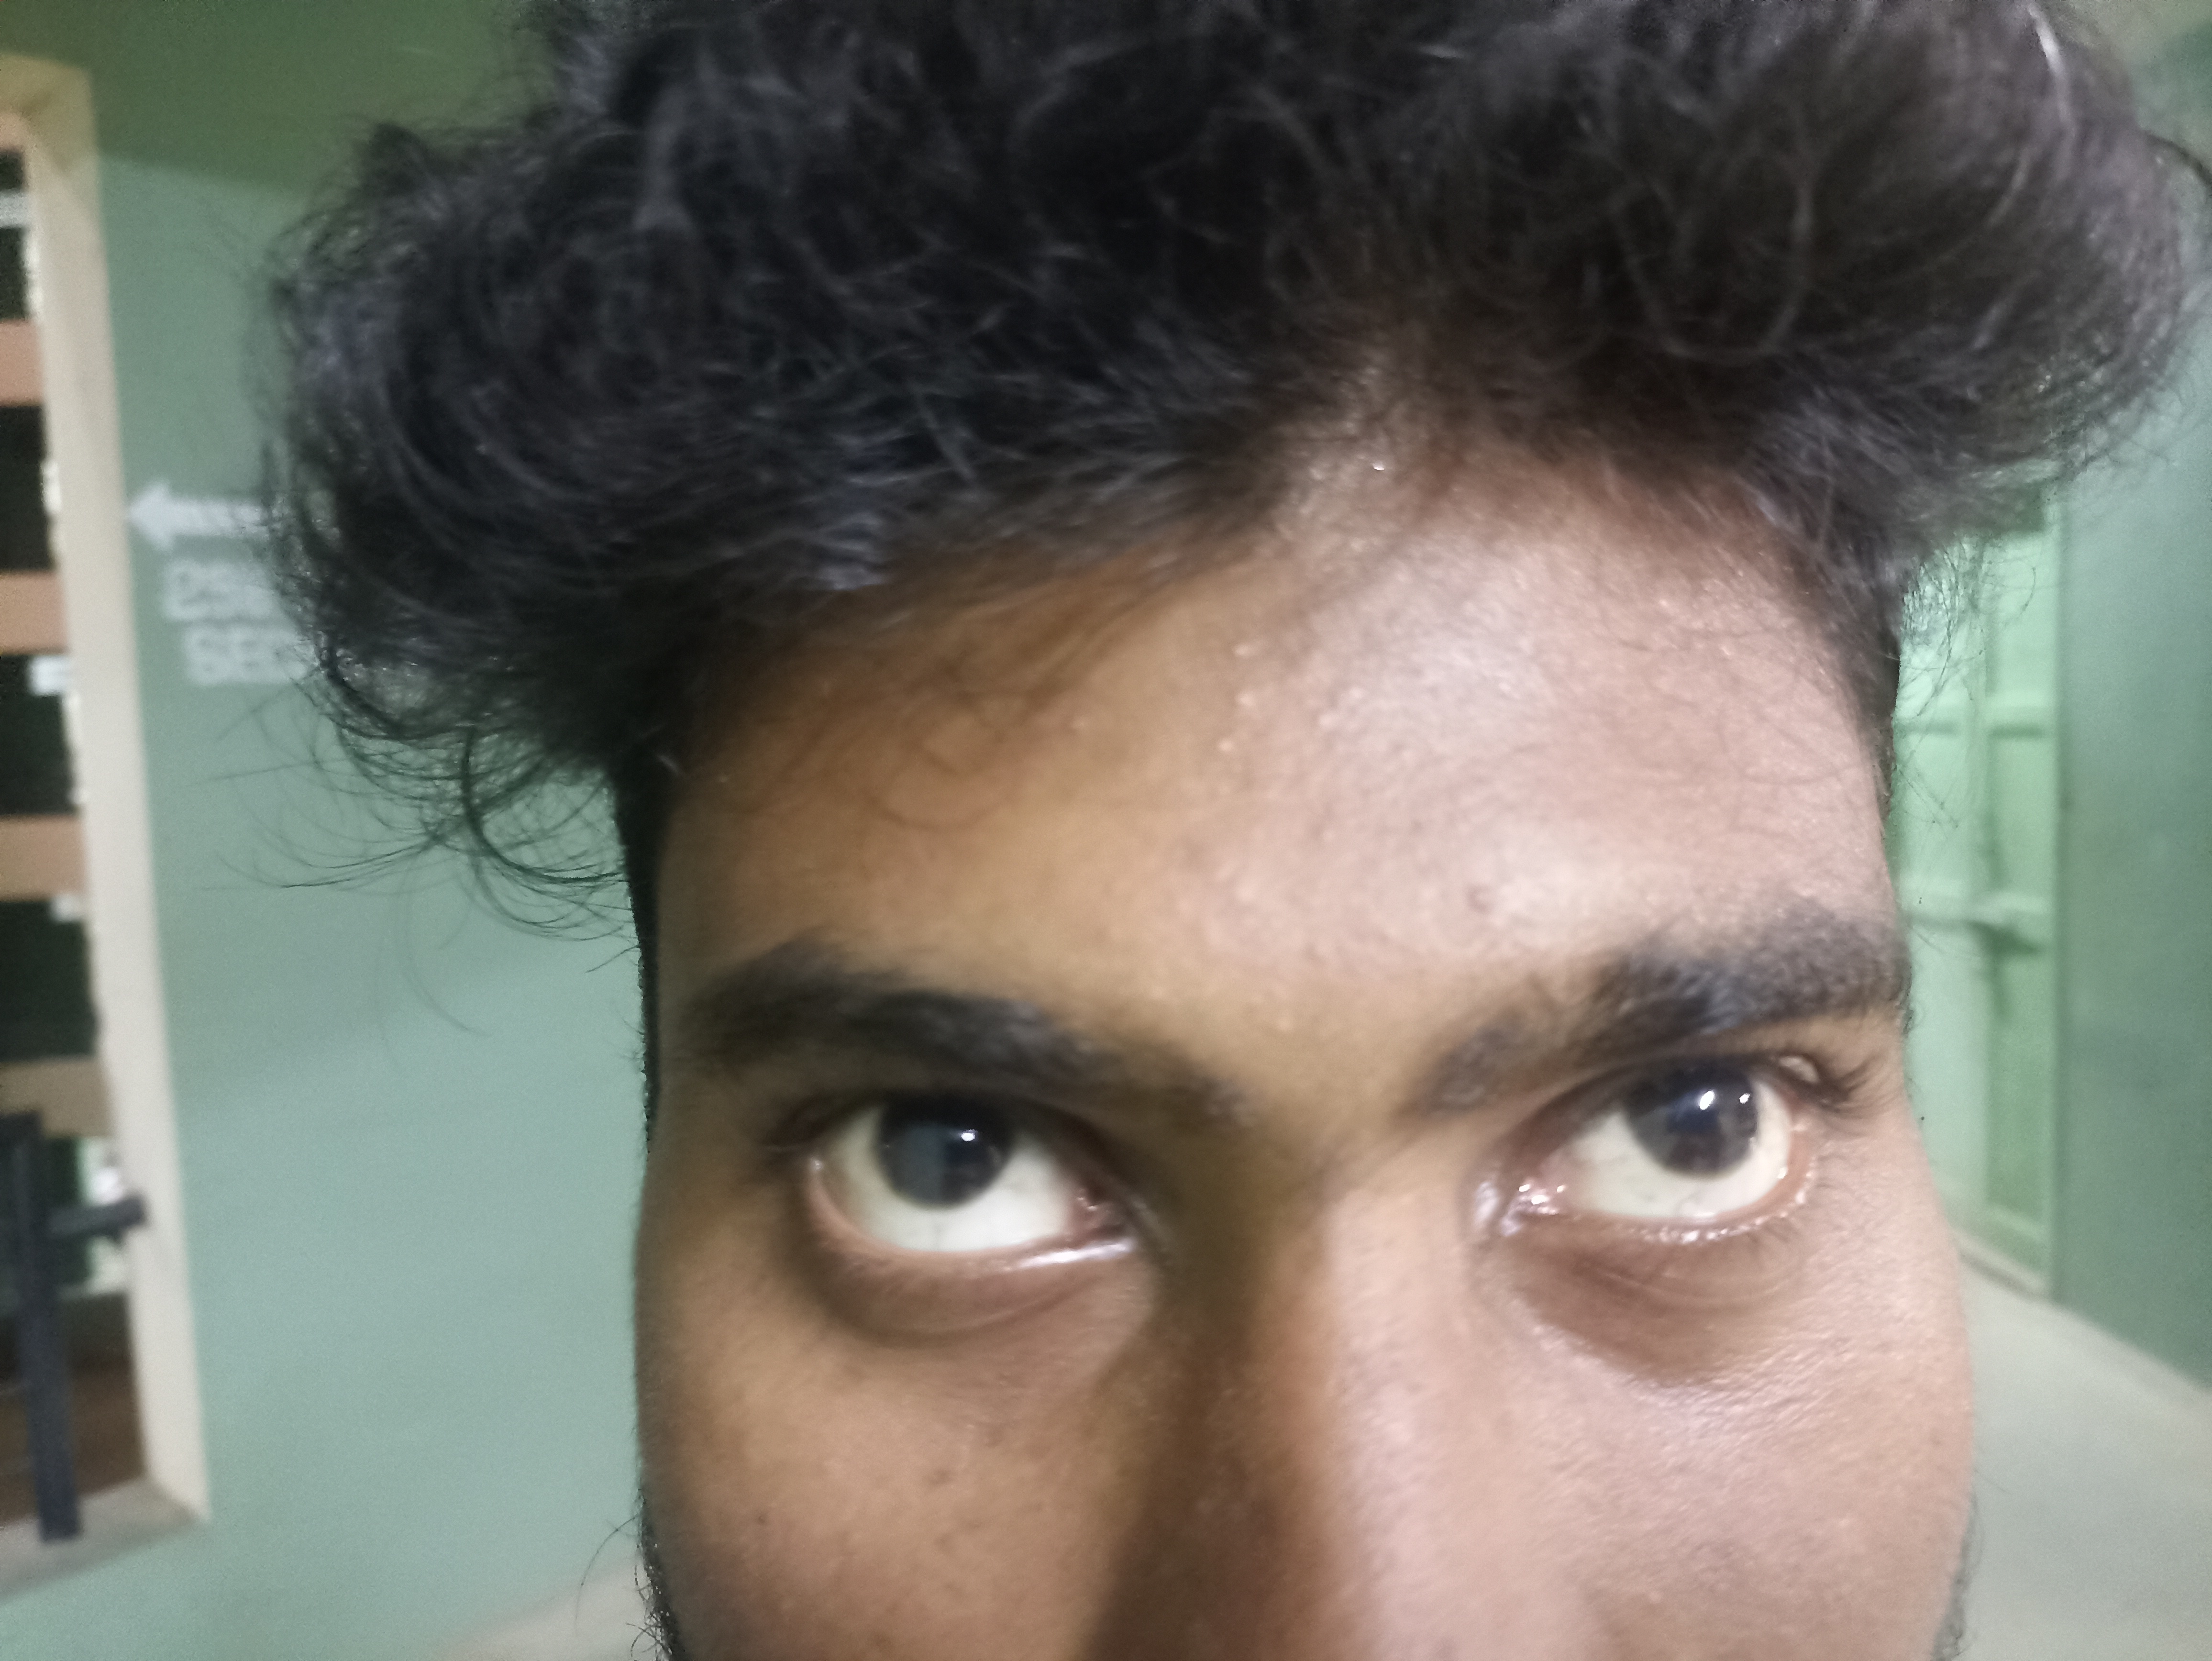EYE UP: (586, 837, 1286, 1495), (1355, 837, 1970, 1511)
